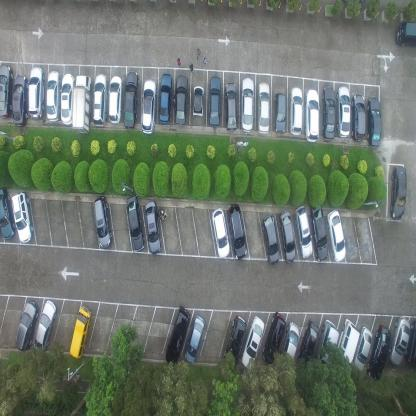car: (165, 305, 192, 369), (366, 323, 392, 382), (312, 320, 339, 376), (334, 318, 360, 375), (222, 314, 247, 370), (240, 314, 264, 370), (262, 310, 286, 364), (32, 300, 55, 356), (14, 301, 38, 353), (72, 72, 92, 134), (69, 306, 91, 362), (278, 321, 300, 377), (11, 192, 34, 244), (297, 320, 319, 372), (388, 315, 410, 367), (227, 203, 247, 260), (126, 194, 145, 253), (184, 314, 206, 364), (326, 208, 346, 262), (310, 202, 328, 260), (389, 164, 407, 221), (294, 205, 313, 258), (211, 207, 230, 259), (352, 326, 372, 375), (124, 69, 140, 129), (93, 195, 111, 248), (141, 77, 157, 136), (262, 213, 280, 265), (12, 73, 29, 128), (0, 184, 16, 242), (304, 87, 320, 143), (28, 65, 44, 121), (145, 200, 161, 255), (280, 210, 296, 264), (93, 72, 108, 129), (46, 68, 61, 124), (366, 97, 382, 148), (60, 71, 75, 125), (321, 84, 335, 141), (351, 93, 367, 142), (240, 77, 254, 133), (336, 85, 350, 139), (108, 74, 123, 124), (158, 72, 172, 124), (0, 64, 13, 119), (289, 86, 303, 137), (175, 73, 188, 127), (224, 82, 238, 132), (257, 81, 270, 134), (209, 75, 221, 128), (395, 19, 416, 48), (404, 320, 416, 368), (273, 92, 286, 133), (192, 85, 204, 118)
